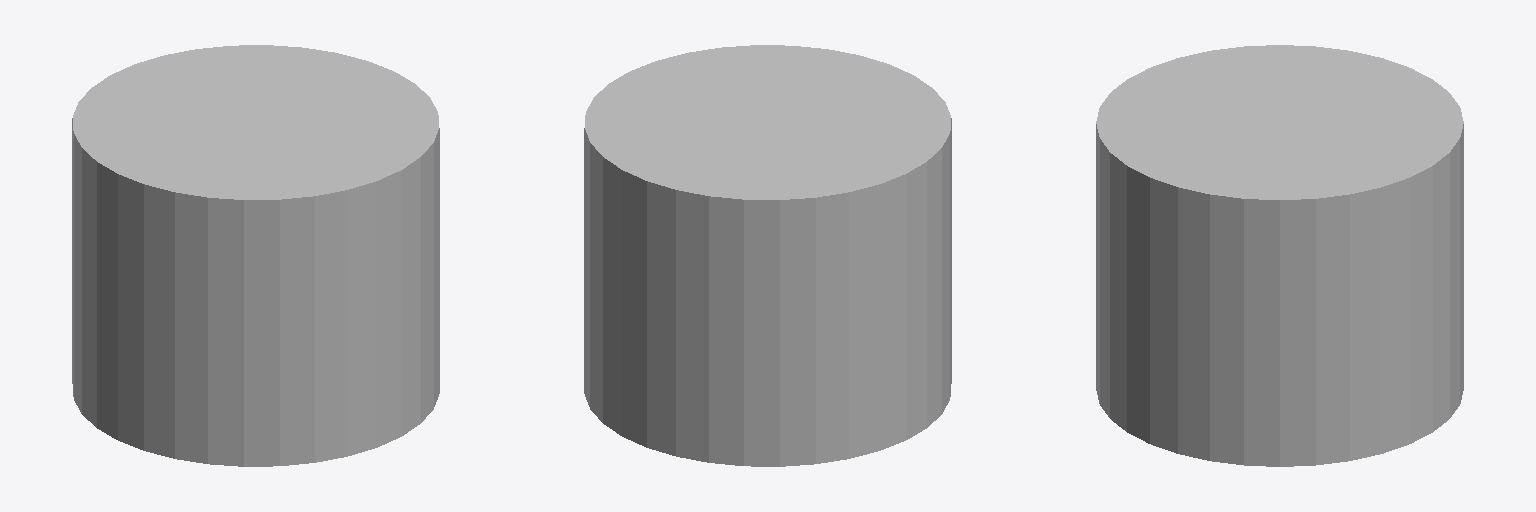
Rendered from resource_4.obj.
The picture shows the model from 3 angles: view 1: azimuth 30°, elevation 25°; view 2: azimuth 150°, elevation 25°; view 3: azimuth 270°, elevation 25°; orthographic projection.
Parts seen in each view (by area): view 1: Cylinder.004; view 2: Cylinder.004; view 3: Cylinder.004.
Part boxes in pixels (bbox=[...]): Cylinder.004: bbox=[72, 45, 439, 466]; Cylinder.004: bbox=[584, 45, 951, 466]; Cylinder.004: bbox=[1096, 45, 1463, 466].
Size of the model in its own units: 1 by 0.8 by 1.